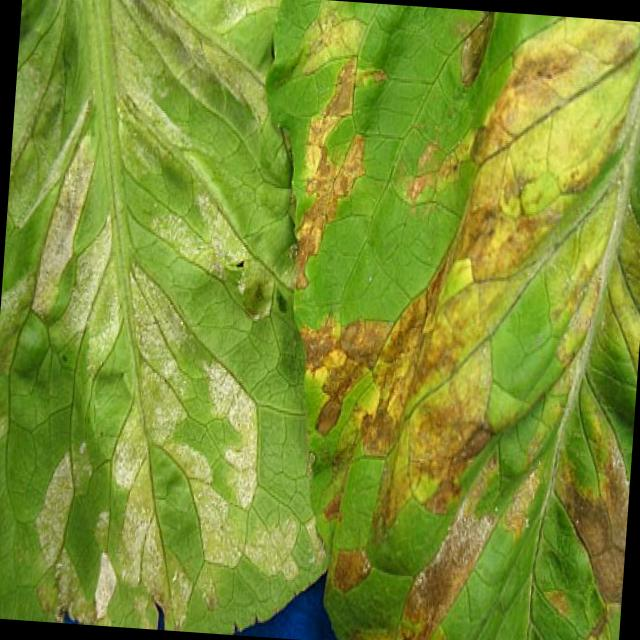Downy_mildew_on_lettuce: (329, 20, 640, 610)
